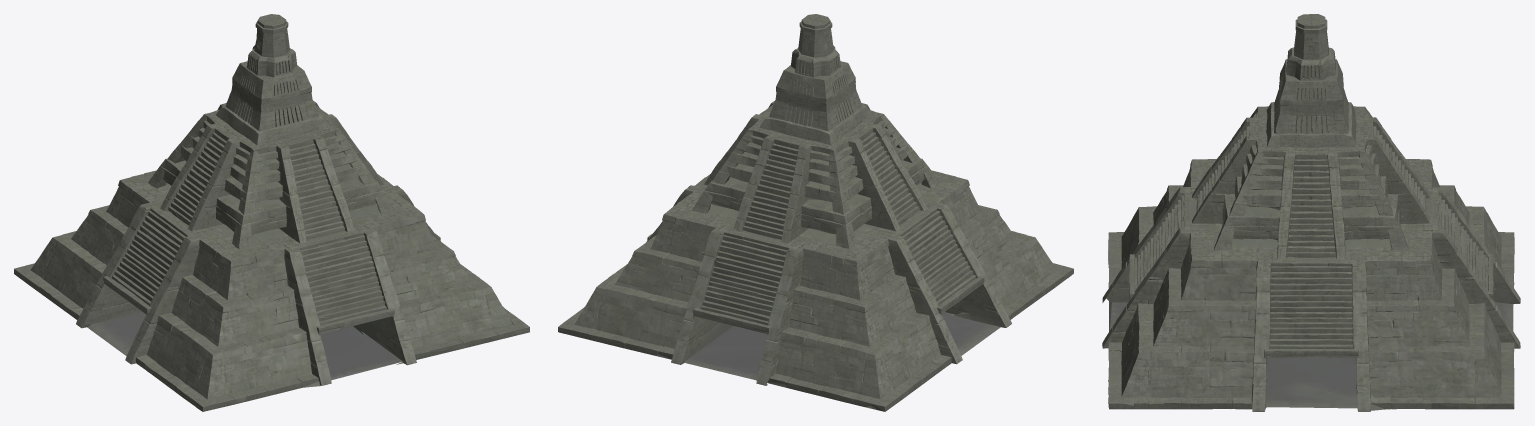
File: massassi.glb
3 views of the same model, side by side, from view 1: azimuth 30°, elevation 25°; view 2: azimuth 150°, elevation 25°; view 3: azimuth 270°, elevation 25° (orthographic). The views are drawn at different scales.
Visible parts, largest first — view 1: massassi; view 2: massassi; view 3: massassi.
Boxes of the visible parts, <box> form: massassi: <box>14,14,529,411</box>; massassi: <box>558,14,1073,411</box>; massassi: <box>1102,14,1520,411</box>.
Size of the model in its own units: 96 by 77.05 by 96.
Materials: 1 (1 with a texture image).
